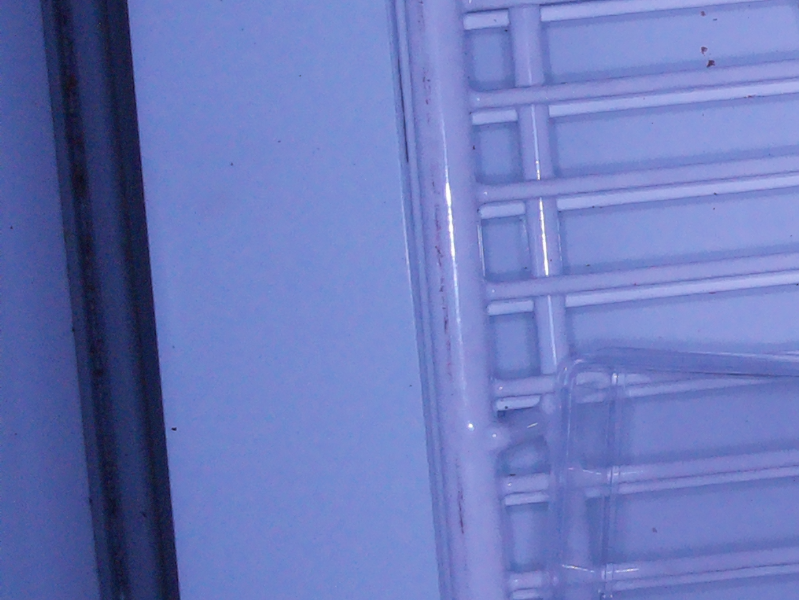plate: (551, 342, 799, 600)
